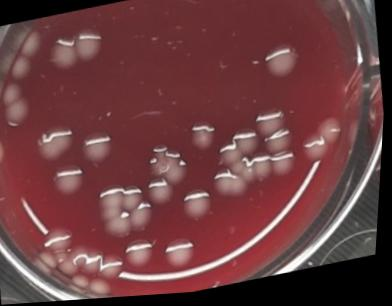vharveyi: (94, 182, 160, 244), (255, 104, 302, 187), (142, 141, 195, 210), (62, 238, 130, 288), (300, 117, 350, 167), (4, 27, 48, 83), (33, 121, 79, 167), (50, 163, 95, 205), (0, 81, 37, 131), (78, 126, 120, 170), (162, 233, 204, 275), (263, 42, 303, 86), (125, 237, 162, 274), (183, 187, 218, 226), (47, 34, 81, 73), (73, 26, 107, 64), (43, 223, 78, 258), (187, 120, 220, 154)
